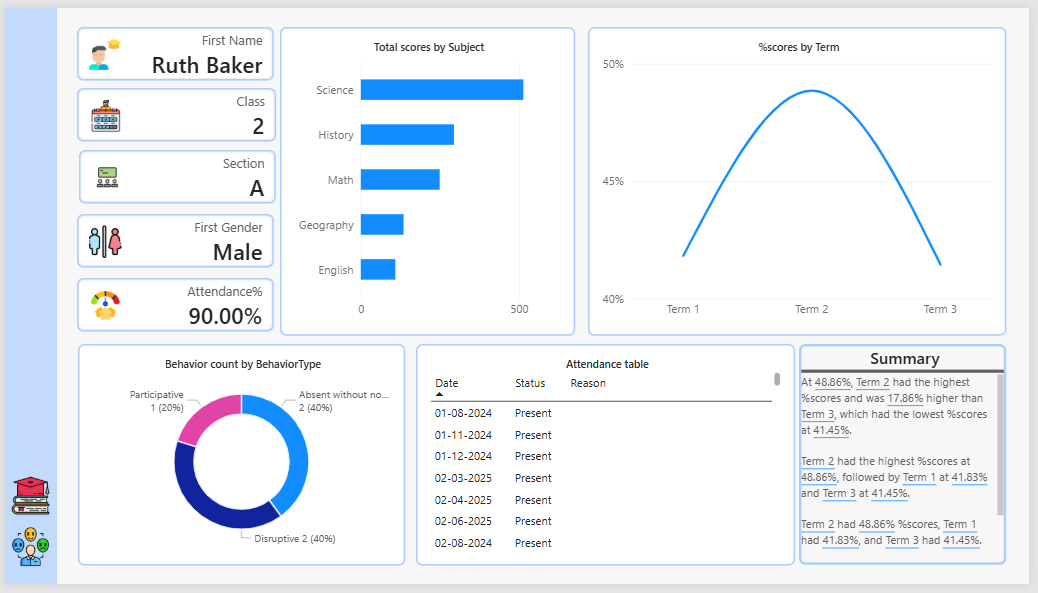

What the dashboard file says about the page in this screenshot:
{"tool":"powerbi","page":{"name":"Student","canvas":[1280,720],"ordinal":2},"visuals":[{"type":"cardVisual","fields":{"Data":["Min(Students csv.Name)"]},"box":[89.9,24.1,245.7,67.1],"z":0},{"type":"cardVisual","fields":{"Data":["Sum(Students csv.Class)"]},"box":[89.9,99.9,248.6,67.1],"z":1000},{"type":"cardVisual","fields":{"Data":["Min(Students csv.Section)"]},"box":[92.8,177,245.7,67.1],"z":2000},{"type":"clusteredBarChart","fields":{"Category":["Scores csv.Subject"],"Y":["_measure.Total scores"]},"box":[344.2,23.8,368.6,385.7],"z":3000},{"type":"lineChart","fields":{"Category":["Scores csv.Term"],"Y":["_measure.%scores"]},"box":[728.5,23.8,522.9,385.7],"z":4000},{"type":"donutChart","fields":{"Category":["Behavior csv.BehaviorType"],"Y":["_measure.Behavior count"]},"box":[91.4,420,408.6,277.1],"z":5000},{"type":"shape","box":[0,0,65,720],"z":6000},{"type":"tableEx","title":"Attendance table","fields":{"Values":["Attendance csv.Date","Attendance csv.Status","Attendance csv.Reason"]},"box":[514.3,420,474.3,277.1],"z":7000},{"type":"textbox","title":"Summary","box":[992.5,420,258.8,276.2],"z":8000},{"type":"image","box":[7.1,648.3,48.6,48.6],"z":10000},{"type":"image","box":[7.1,585.4,48.6,48.6],"z":11000},{"type":"cardVisual","fields":{"Data":["Min(Students csv.Gender)"]},"box":[89.9,257,245.7,67.1],"z":12000},{"type":"cardVisual","fields":{"Data":["_measure.Attendance%"]},"box":[89.9,337,245.7,67.1],"z":13000}]}

Visuals, with their boxes in screenshot pixels (x1, y1, x2, y2), scaled from the page's 1280x720 canvas onto the 1038x593 screenshot:
cardVisual - Min(Students csv.Name): (left=73, top=20, right=272, bottom=75)
cardVisual - Sum(Students csv.Class): (left=73, top=82, right=275, bottom=138)
cardVisual - Min(Students csv.Section): (left=75, top=146, right=275, bottom=201)
clusteredBarChart - Scores csv.Subject x _measure.Total scores: (left=279, top=20, right=578, bottom=337)
lineChart - Scores csv.Term x _measure.%scores: (left=591, top=20, right=1015, bottom=337)
donutChart - Behavior csv.BehaviorType x _measure.Behavior count: (left=74, top=346, right=405, bottom=574)
shape: (left=0, top=0, right=53, bottom=592)
"Attendance table" tableEx: (left=417, top=346, right=802, bottom=574)
"Summary" textbox: (left=805, top=346, right=1015, bottom=573)
image: (left=6, top=534, right=45, bottom=574)
image: (left=6, top=482, right=45, bottom=522)
cardVisual - Min(Students csv.Gender): (left=73, top=212, right=272, bottom=267)
cardVisual - _measure.Attendance%: (left=73, top=278, right=272, bottom=333)
